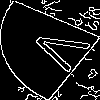V: (25, 25, 100, 78)
